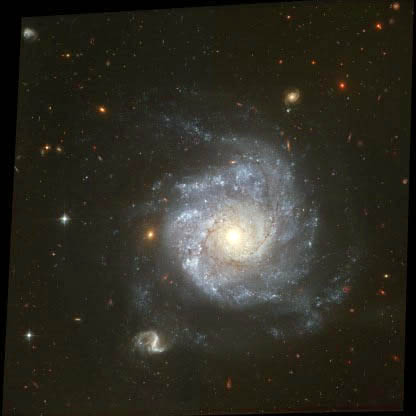NGC 1309: (87, 79, 355, 373)
